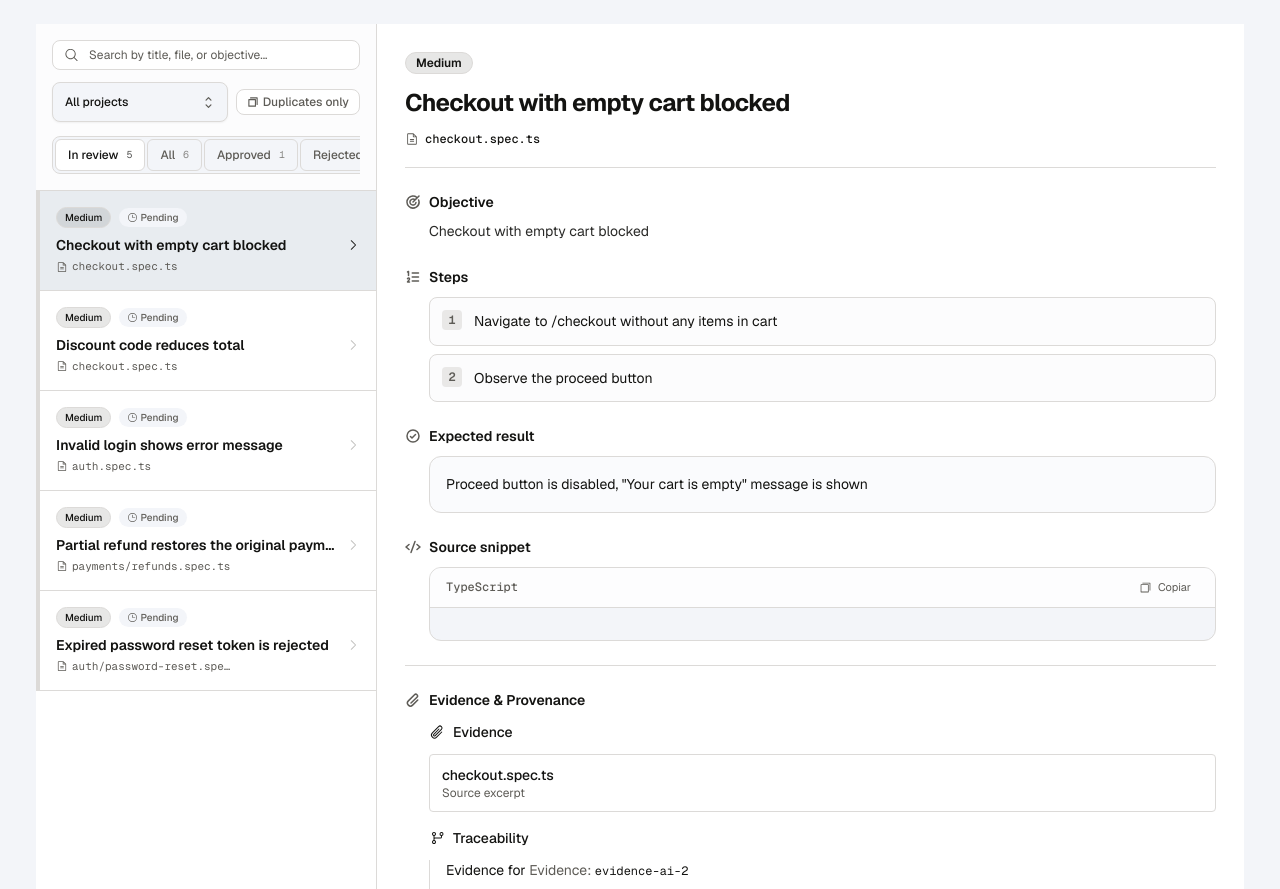
Test: ReviewInboxPage › allows searching proposals by text query
Type "nonexistentquery123xyz" into the search field labelled "Search by title, file, or objective...".
click(206, 55); type("nonexistentquery123xyz")  # box [52,40,360,70]
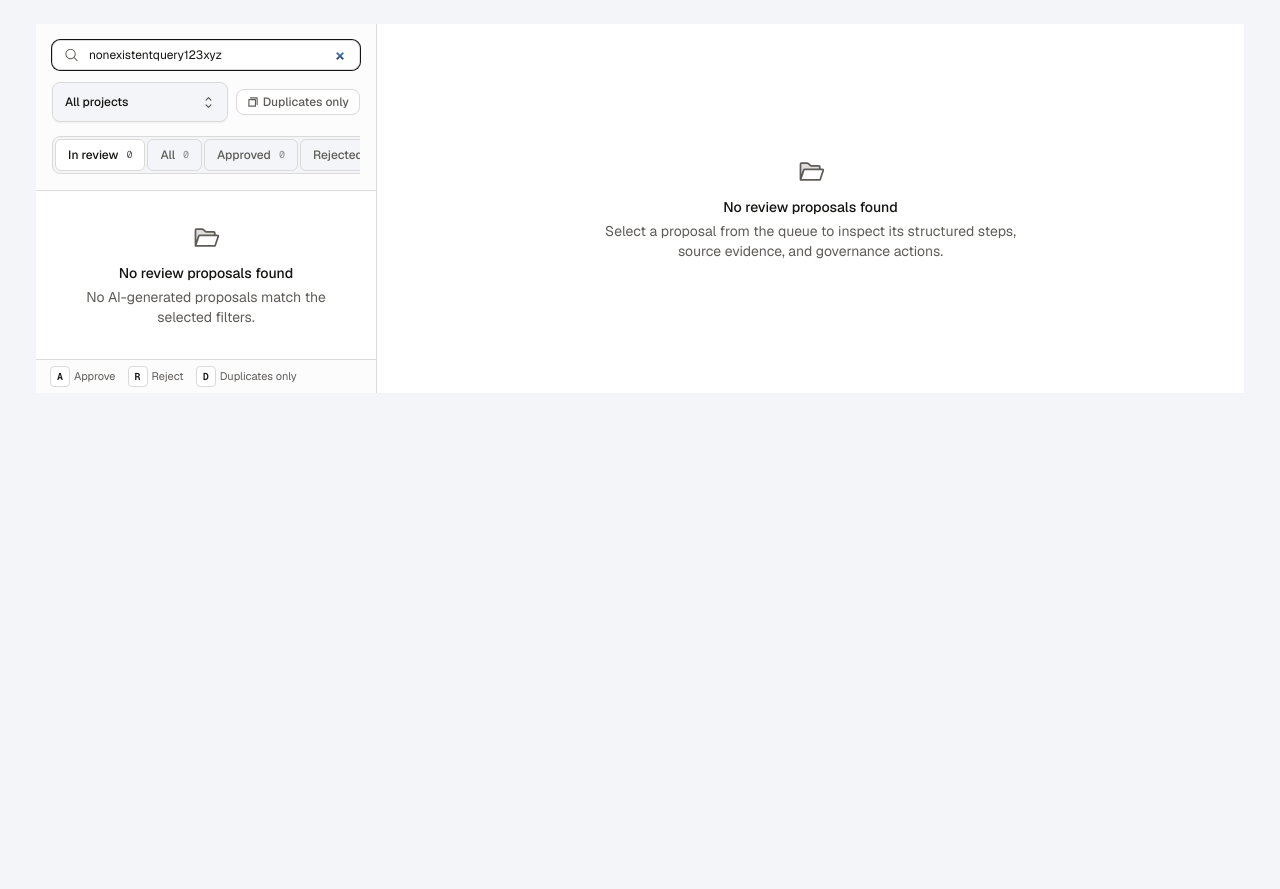
Expected: the 2nd text "No review proposals found" is shown, [119,264,293,282]
